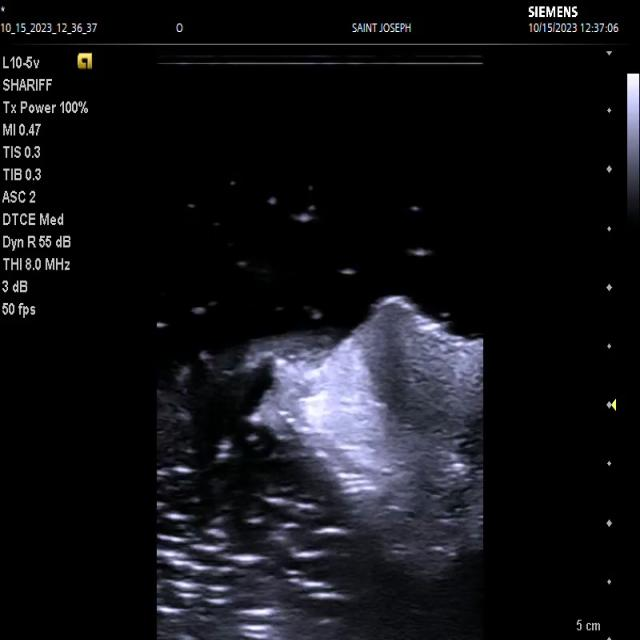tissue: (242, 298, 482, 582)
